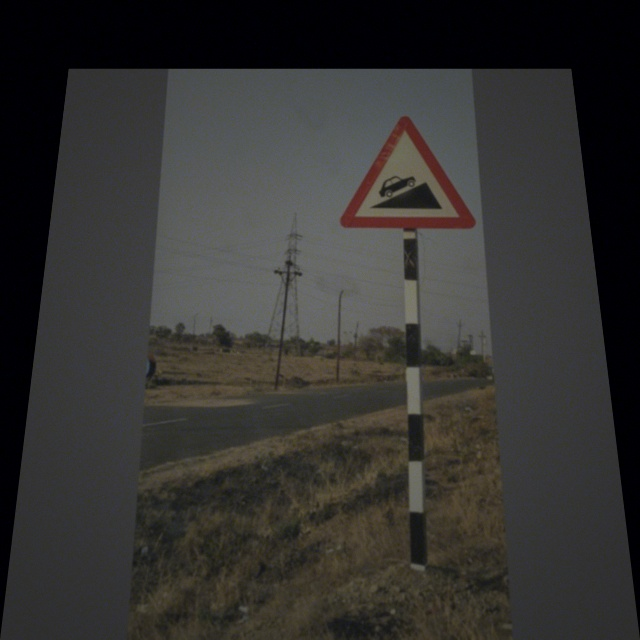Steep_Ascent: (332, 112, 480, 235)
